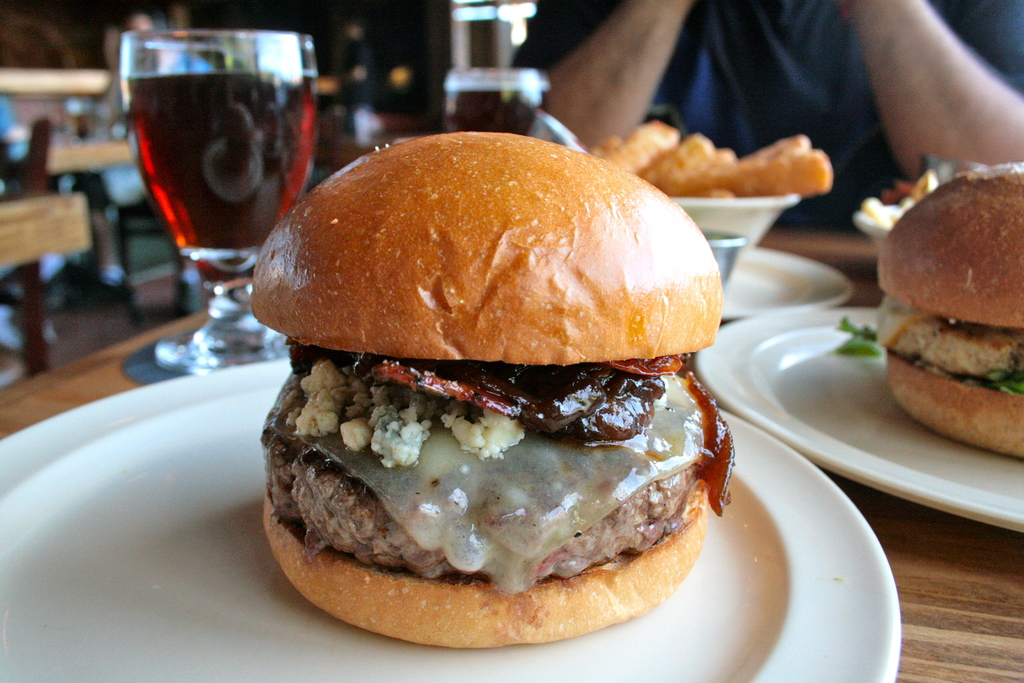Hamburger: (245, 131, 730, 650), (874, 163, 1023, 456)
